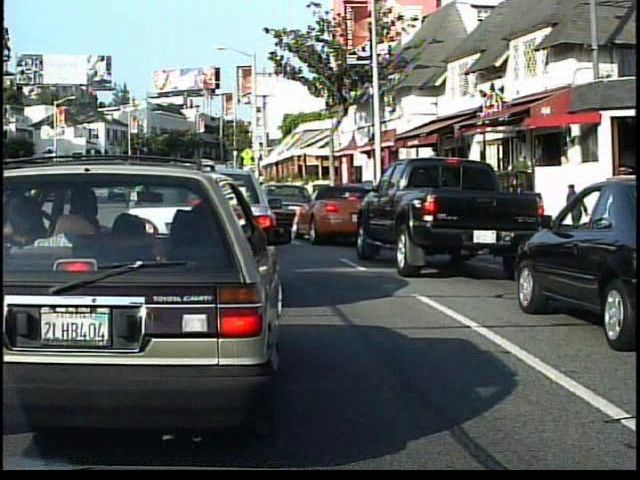person: (509, 149, 534, 201)
